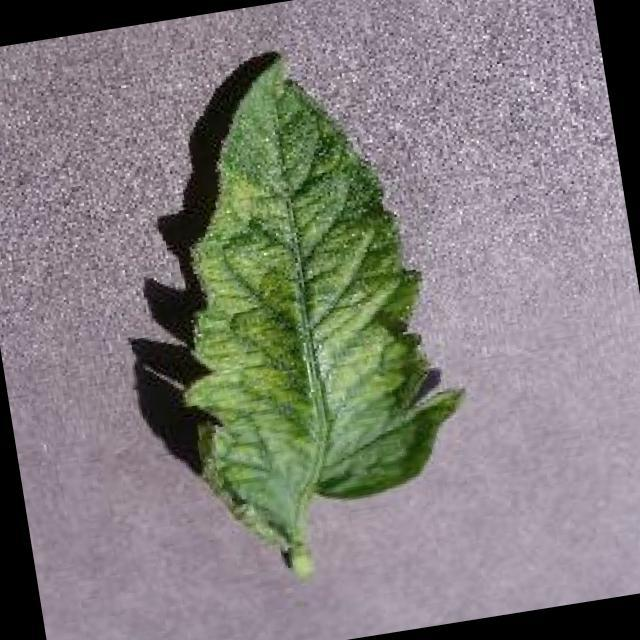Tomato mosaic virus leaf: (130, 26, 498, 557)
